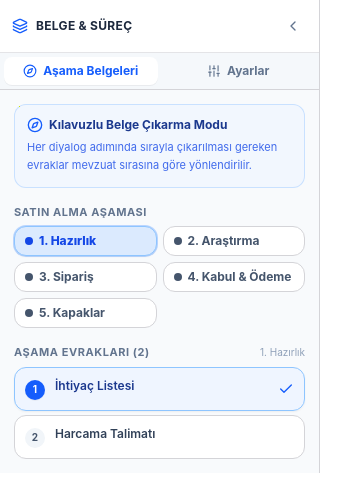
Scenario: DocumentPreviewModalV3 Stage-Aware Separation & Guidance Mode › DocumentPreviewSidebar stage tabs & document listing › aşama sekmelerini (1. Hazırlık, 2. Araştırma...) ve belge listesini render eder
This screenshot has width=337, height=490.
Expected: the text "İhtiyaç Listesi" is shown, [55, 378, 134, 393]
Expected: the text "Harcama Talimatı" is shown, [55, 426, 155, 441]
// Farklı aşamaya tıklanınca o aşamadaki belgeleri listelemeli
Click the button "2. Araştırma" at (234, 241), box [162, 226, 305, 256]
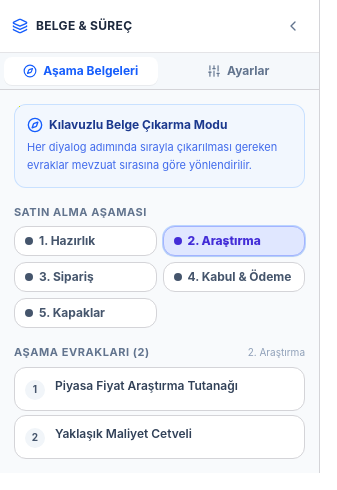
Result: the text "Piyasa Fiyat Araştırma Tutanağı" is shown at [55, 378, 238, 393]
Result: the text "Yaklaşık Maliyet Cetveli" is shown at [55, 426, 192, 441]
